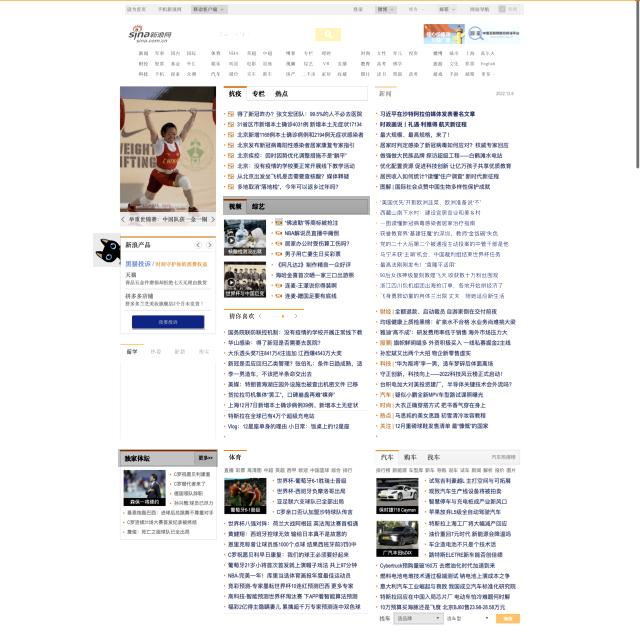CheckBox: (132, 315, 205, 330), (315, 27, 342, 42), (495, 612, 521, 625)
CheckedTextView: (180, 27, 344, 42)
ImageView: (467, 24, 520, 44), (422, 23, 466, 45)
Input field: (374, 197, 516, 304)
accordion: (93, 233, 121, 267)
alert: (393, 612, 444, 625), (444, 613, 494, 625), (191, 5, 228, 14), (186, 29, 210, 39), (375, 5, 397, 14), (438, 4, 457, 14), (407, 5, 428, 14)
bag: (0, 0, 635, 84)
carousel: (275, 218, 283, 226)
date picker: (125, 22, 176, 46)
decoration: (136, 48, 504, 82), (125, 4, 524, 15)
footer: (216, 31, 252, 38)
icon: (376, 84, 522, 104), (223, 196, 370, 215), (222, 448, 369, 466), (223, 307, 369, 325), (222, 85, 370, 102), (374, 449, 520, 466), (119, 342, 217, 362), (118, 449, 218, 467)
